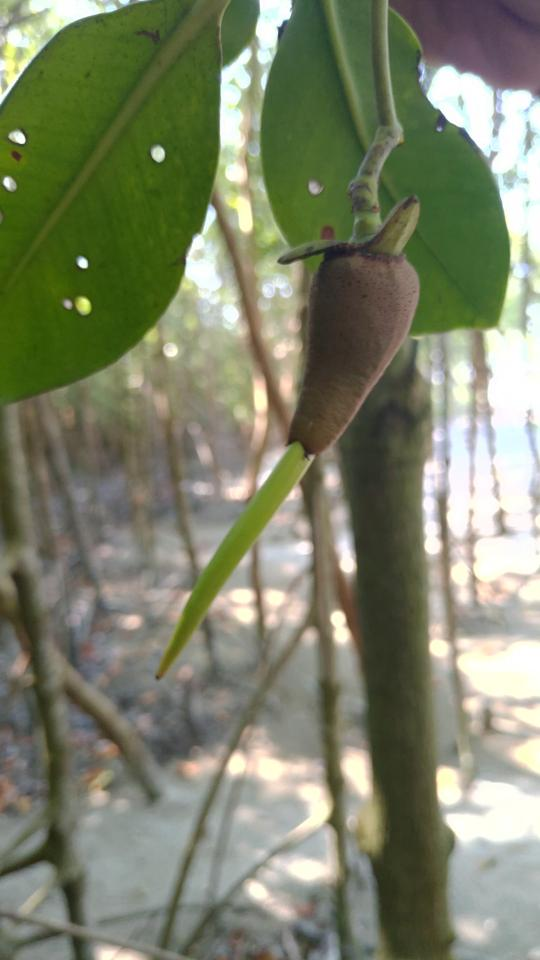mentah: (130, 225, 433, 703)
